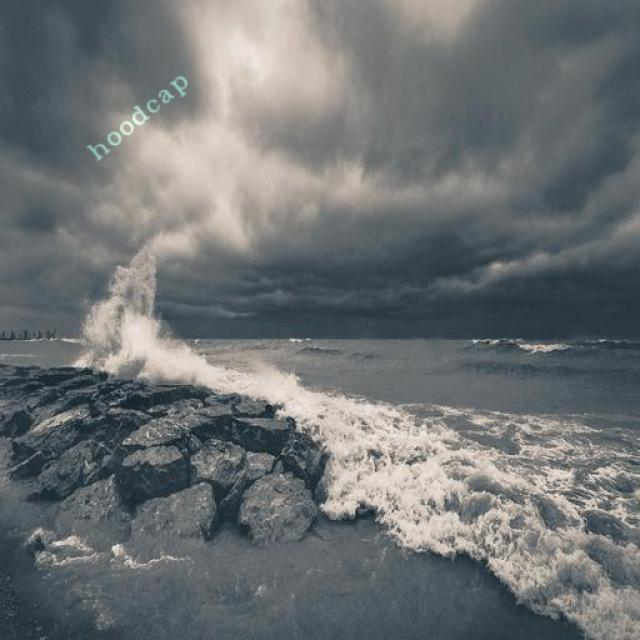watermark: (89, 62, 190, 165)
